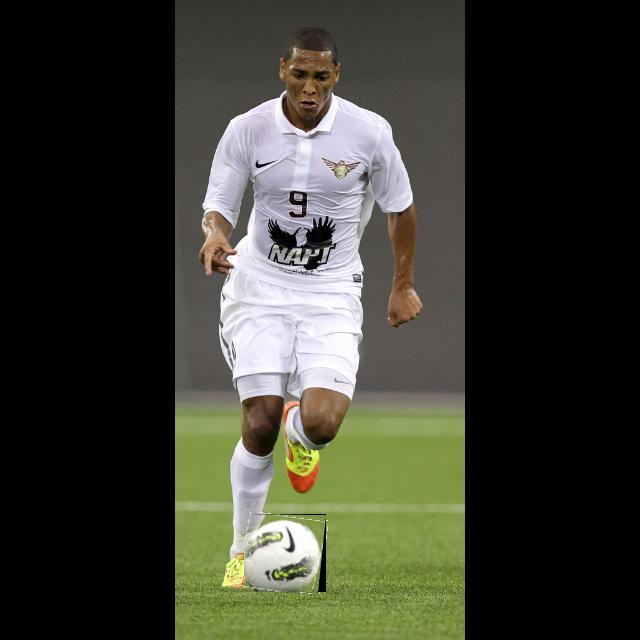Football: (244, 514, 326, 592)
